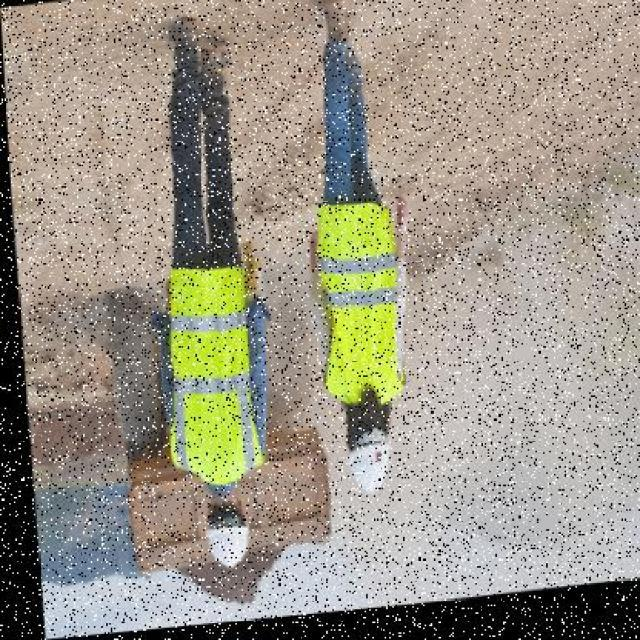helmet: (334, 437, 390, 509), (189, 519, 245, 580)
vest: (149, 258, 263, 494), (300, 198, 402, 424)
